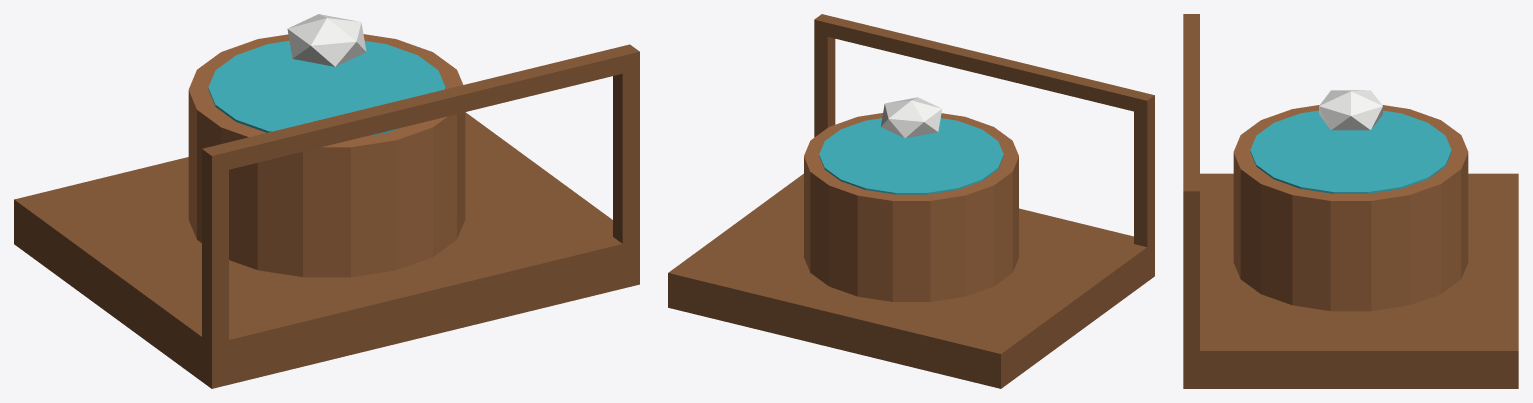
The model's file is hot_tub.glb.
3 renders of one model, left to right at view 1: azimuth 30°, elevation 25°; view 2: azimuth 150°, elevation 25°; view 3: azimuth 270°, elevation 25°, orthographic. The views are drawn at different scales.
Visible parts, largest first — view 1: CLHotTub; view 2: CLHotTub; view 3: CLHotTub.
Boxes of the visible parts, left/top/right/bottom form: CLHotTub: left=14, top=14, right=639, bottom=388; CLHotTub: left=668, top=14, right=1154, bottom=388; CLHotTub: left=1183, top=14, right=1518, bottom=388.
Size of the model in its own units: 1 by 0.55 by 0.8.
